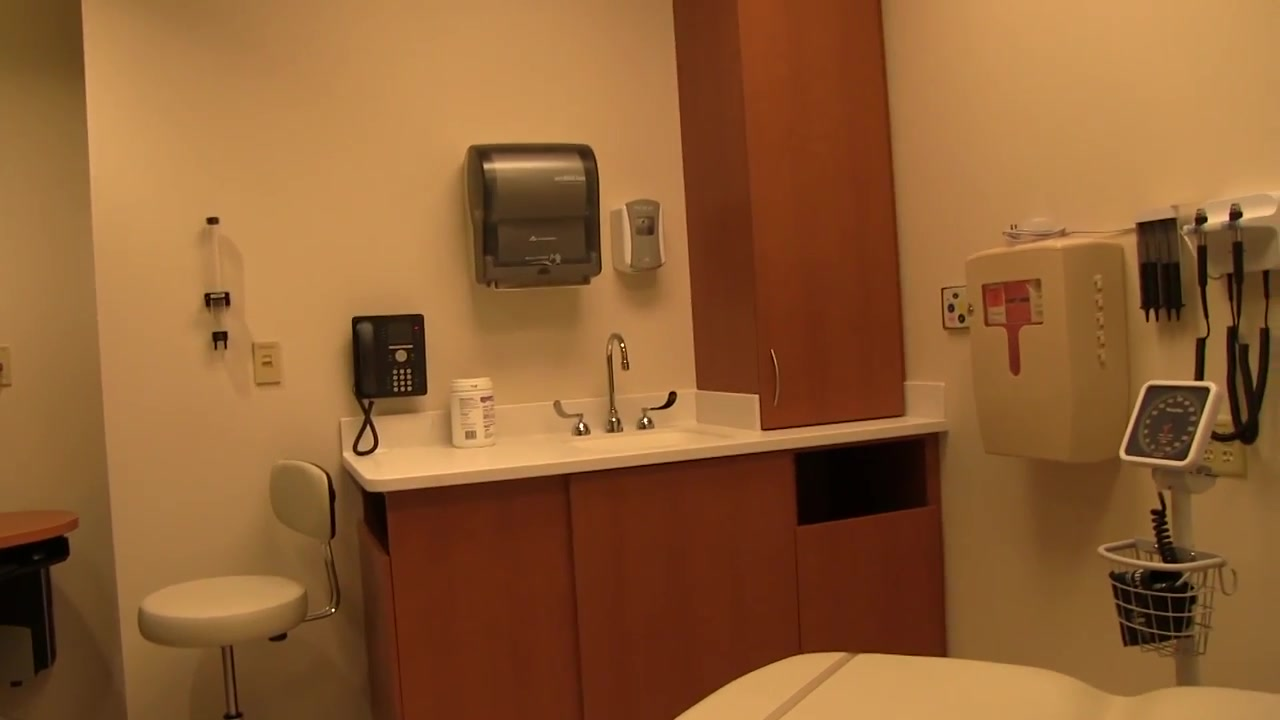cabinet: (677, 1, 912, 414)
chair: (135, 459, 345, 720)
counter: (365, 416, 948, 720)
countertop: (339, 424, 760, 493)
dispenser: (463, 143, 602, 289), (611, 200, 667, 276)
exam_table: (667, 650, 1279, 720)
faucet: (554, 332, 678, 437)
handle: (765, 339, 783, 406)
medical_waste_container: (964, 239, 1128, 469)
sink: (556, 425, 732, 469)
telephone: (341, 312, 433, 461)
